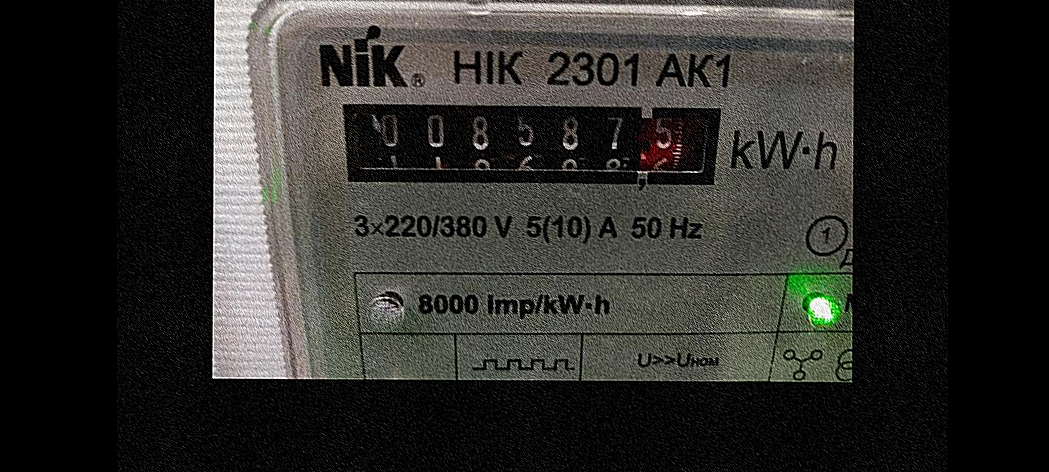0: (423, 110, 447, 150)
1: (377, 110, 401, 151)
5: (652, 112, 676, 152), (514, 111, 537, 149)
7: (603, 113, 626, 154)
8: (467, 112, 492, 153), (559, 113, 580, 154)
screen: (321, 84, 740, 206)
